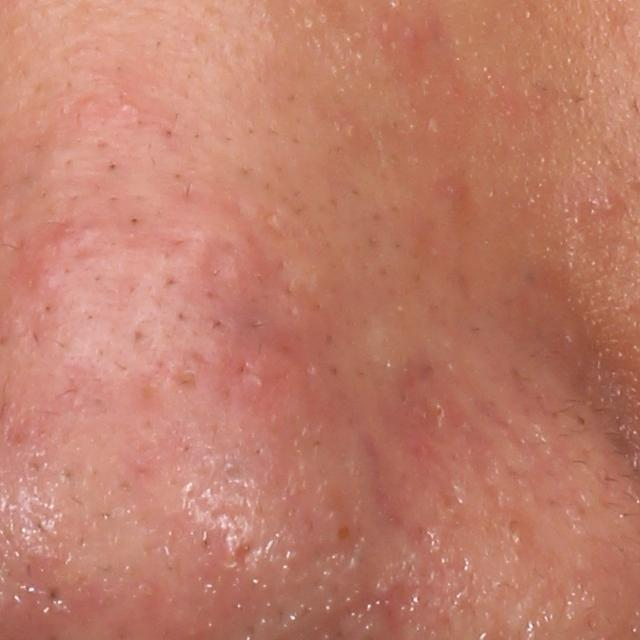papule: (596, 185, 625, 216)
